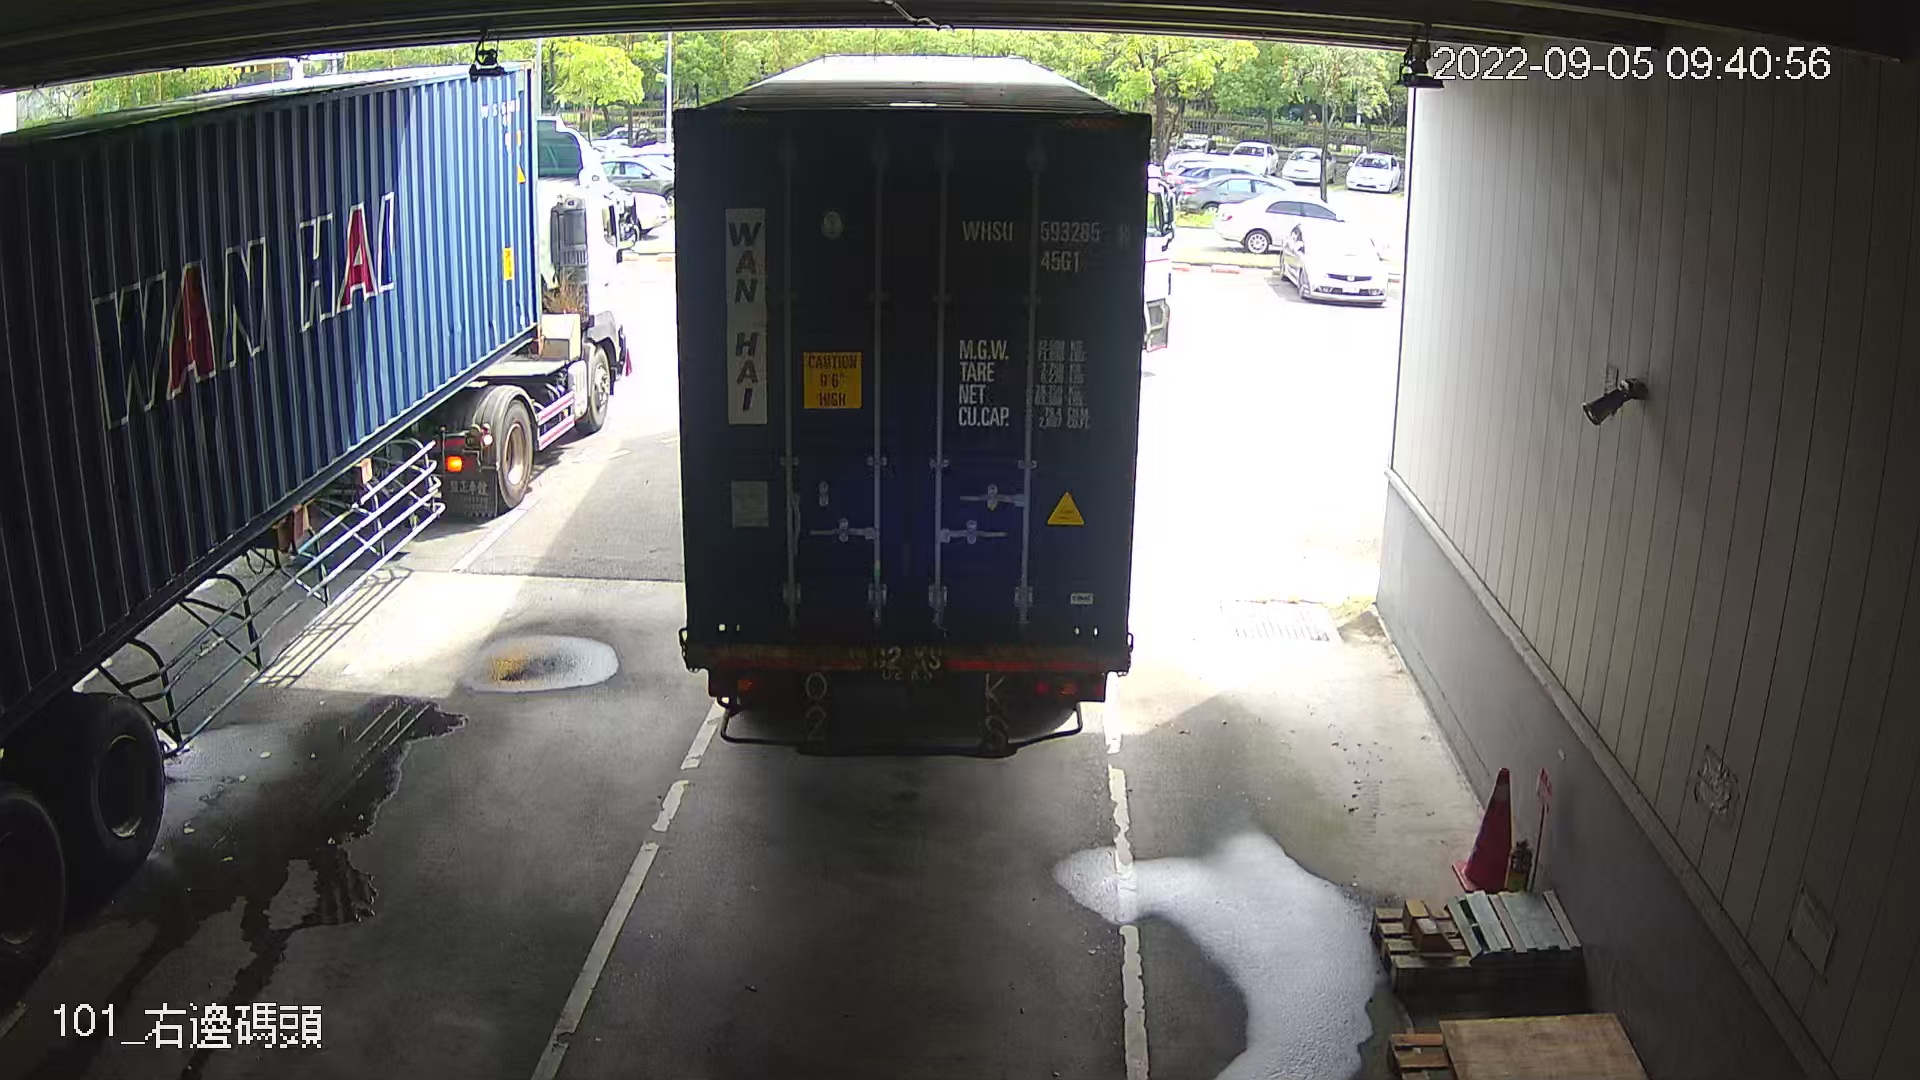container: (951, 207, 1138, 282)
